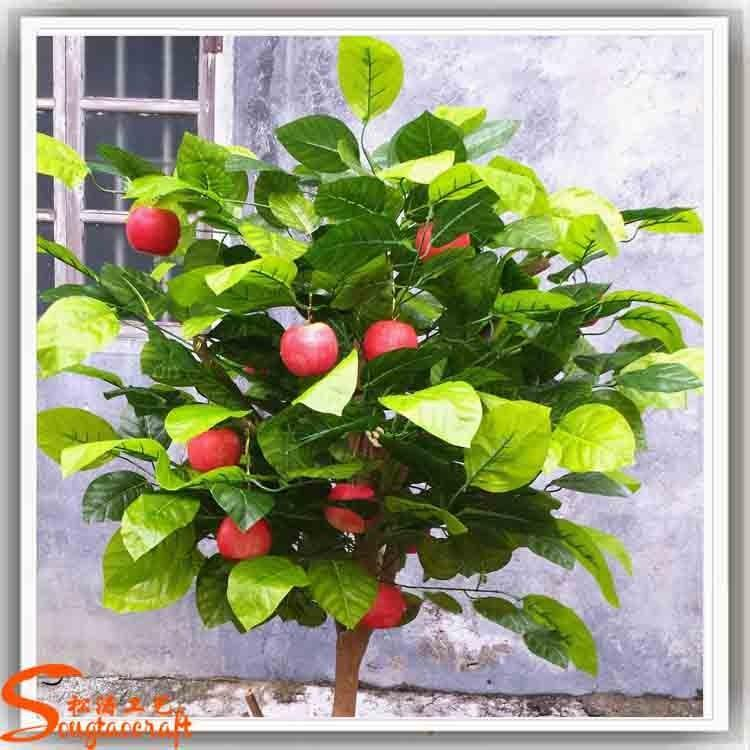apple: (277, 319, 337, 377), (323, 481, 381, 535), (123, 205, 180, 256), (184, 427, 240, 471), (358, 319, 416, 361), (353, 583, 405, 629), (216, 515, 271, 558), (416, 220, 470, 255)
